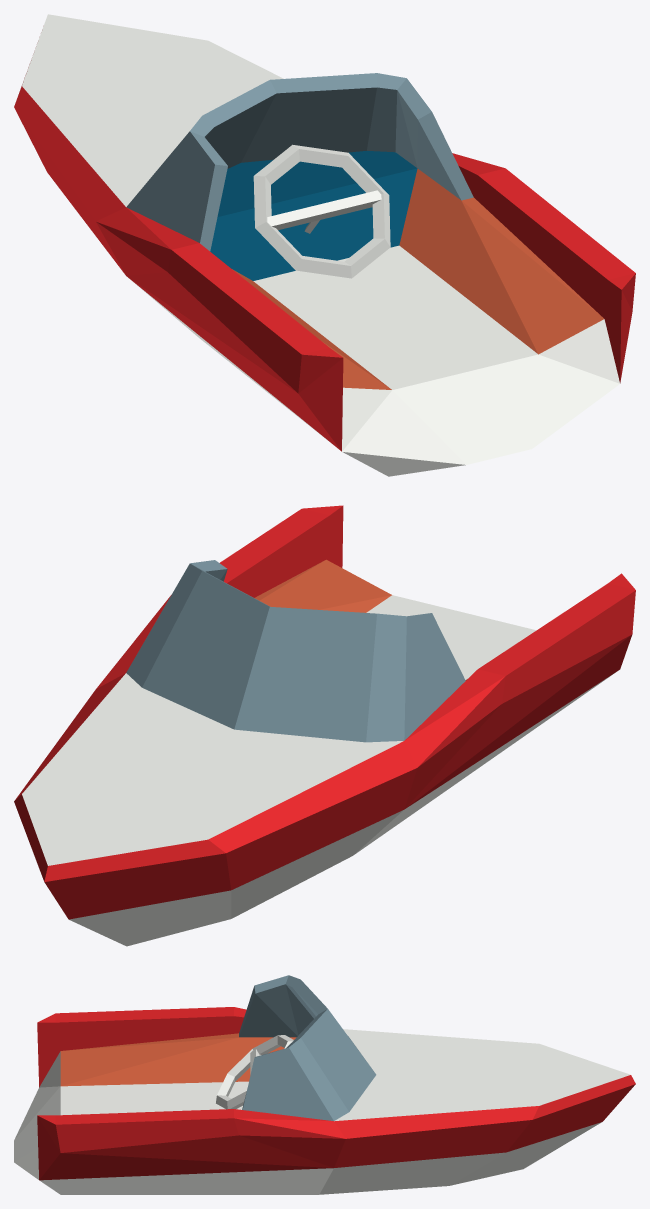
Rendered from boatA.FBX.
The picture shows the model from 3 angles, top to bottom: view 1: azimuth 30°, elevation 25°; view 2: azimuth 150°, elevation 25°; view 3: azimuth 270°, elevation 25°; orthographic projection. The views are drawn at different scales.
Parts seen in each view (by area): view 1: boatA; view 2: boatA; view 3: boatA.
Part boxes in pixels (x1,y1,x2,y2): boatA: (14,14,635,476); boatA: (14,505,635,946); boatA: (14,975,635,1194).
Size of the model in its own units: 0.2991 by 0.201 by 0.7058.
